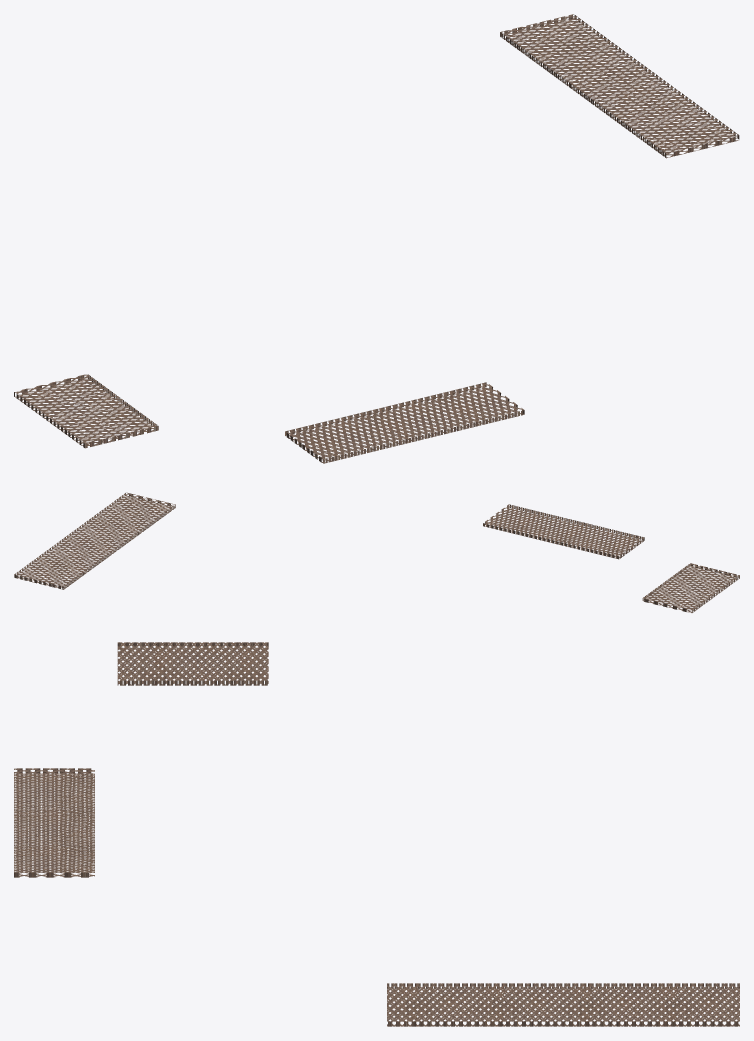
The model's file is SM_NeoLD_14_WireMesh_Col.fbx.
3 views of the same model, one above another, from view 1: azimuth 30°, elevation 25°; view 2: azimuth 150°, elevation 25°; view 3: azimuth 270°, elevation 25° (orthographic). The views are drawn at different scales.
Visible parts, largest first — view 1: SM_NeoLD_14_WireMesh_Col; view 2: SM_NeoLD_14_WireMesh_Col; view 3: SM_NeoLD_14_WireMesh_Col.
Boxes of the visible parts, bbox=[...] form: SM_NeoLD_14_WireMesh_Col: bbox=[14, 14, 739, 463]; SM_NeoLD_14_WireMesh_Col: bbox=[14, 492, 739, 612]; SM_NeoLD_14_WireMesh_Col: bbox=[14, 642, 739, 1026].
Size of the model in its own units: 3617 by 244 by 2738.
